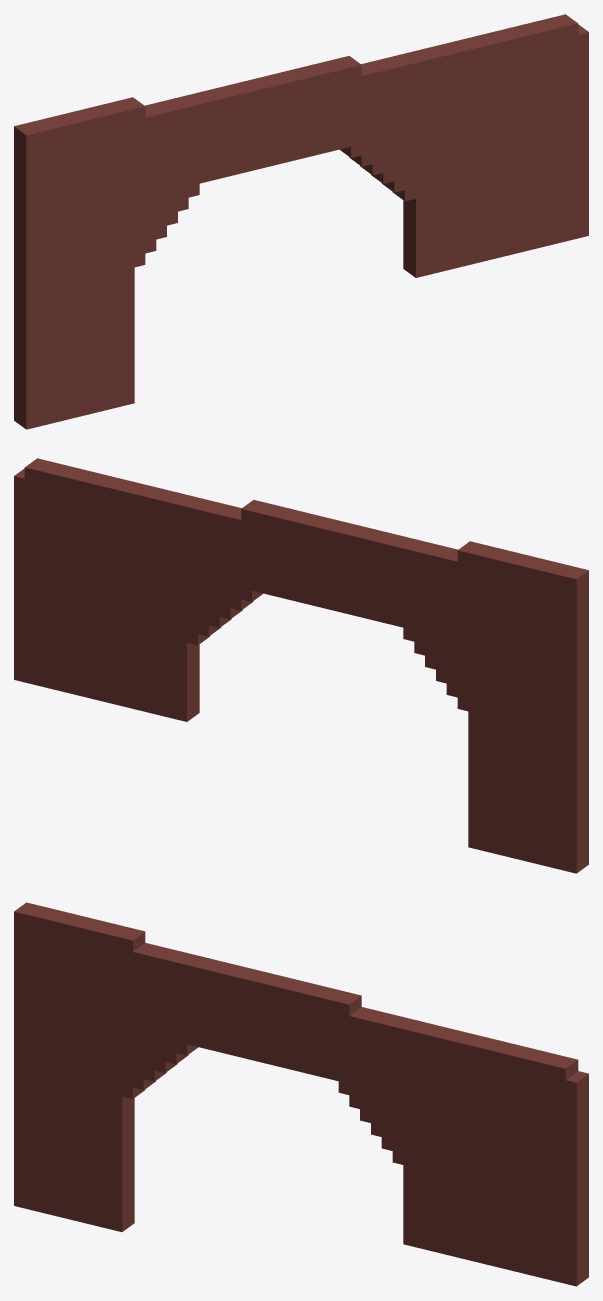
File: luxury_saloon_front_wing.glb
3 renders of one model, top to bottom at view 1: azimuth 30°, elevation 25°; view 2: azimuth 150°, elevation 25°; view 3: azimuth 330°, elevation 25°, orthographic.
Visible parts, largest first — view 1: body:compound; view 2: body:compound; view 3: body:compound.
Boxes of the visible parts, box(x1,y1,x2,y2) form: body:compound: box(14, 14, 588, 429); body:compound: box(14, 458, 588, 873); body:compound: box(14, 902, 588, 1286).
Bounding box in the file's own units: 1.62 × 0.8125 × 0.0625.
